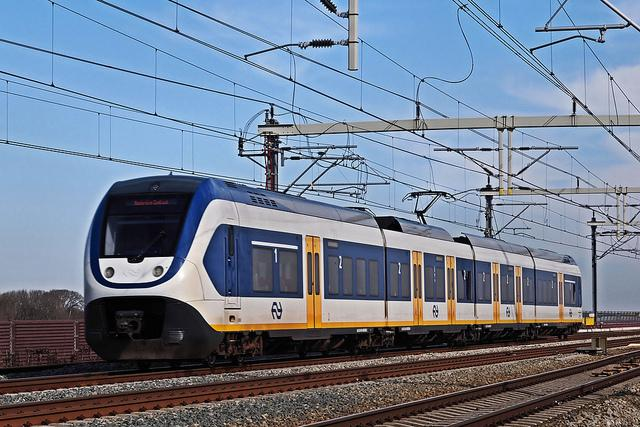Train: (83, 176, 585, 366)
